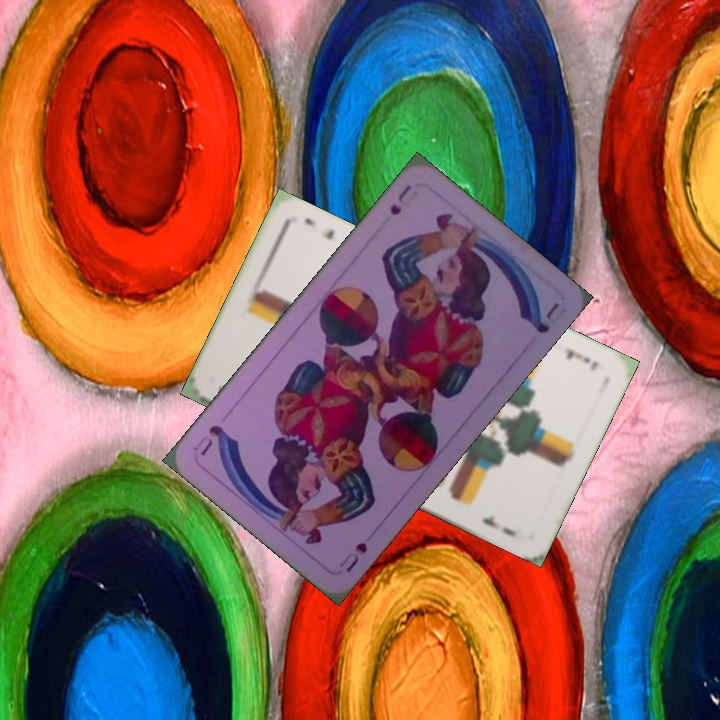E7: (559, 344, 601, 374)
SU: (335, 538, 370, 576), (385, 180, 414, 218)
